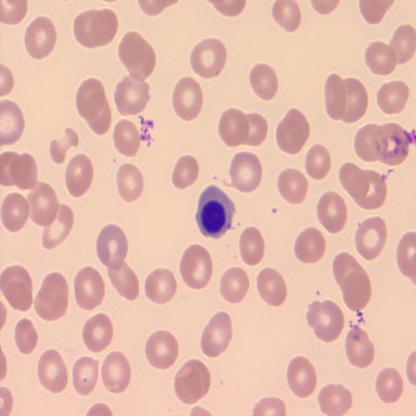NRC: (194, 183, 236, 240)
